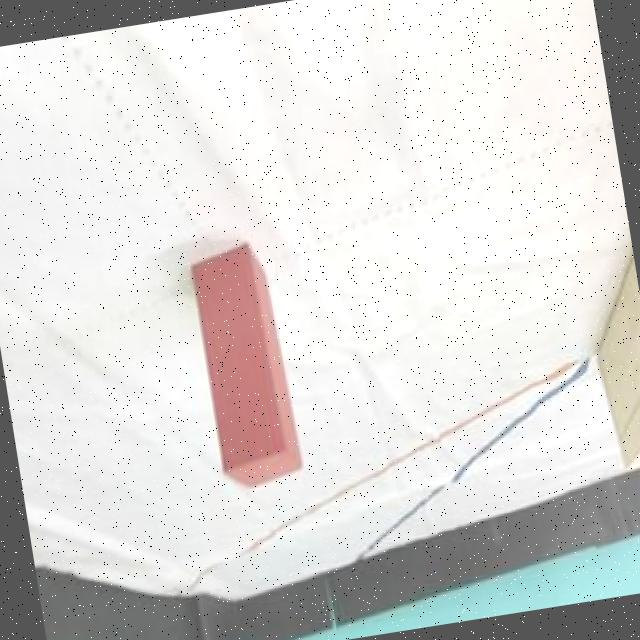redbox: (186, 240, 306, 497)
